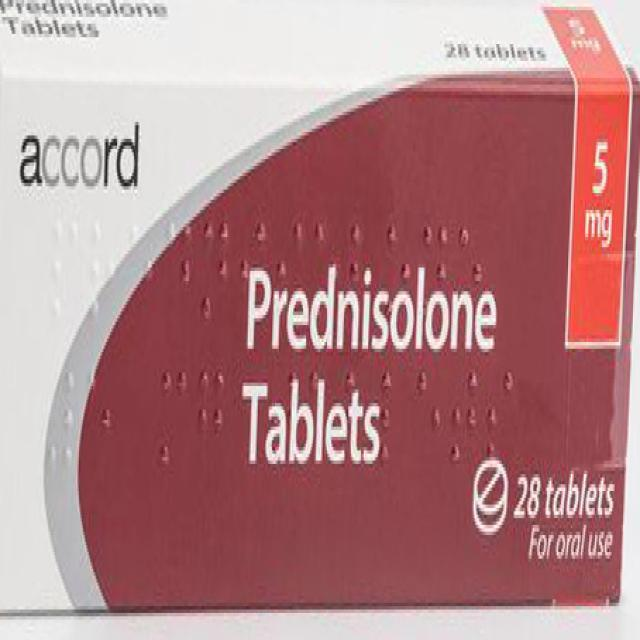drug-name: (9, 116, 148, 200)
